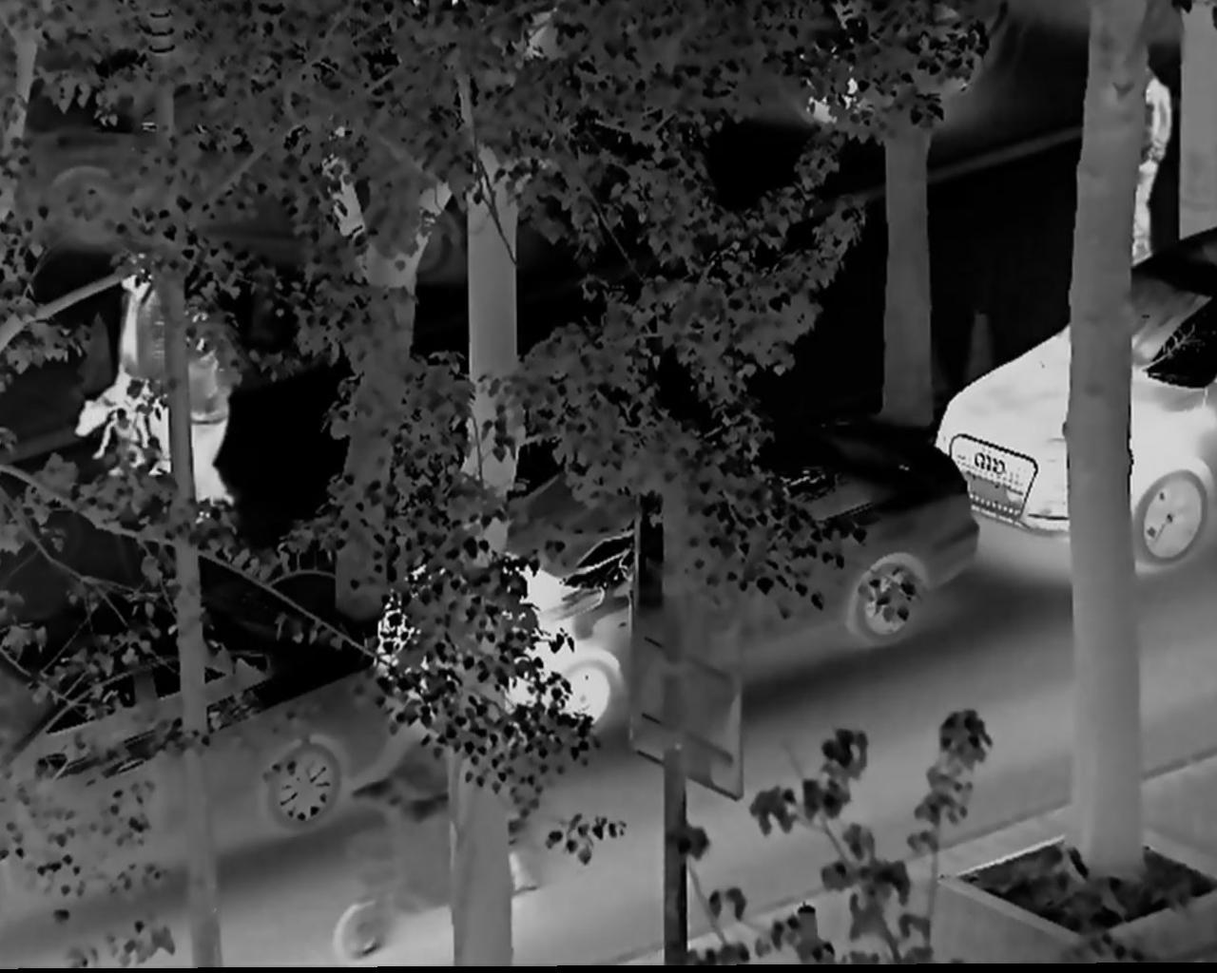person: (181, 316, 248, 536), (109, 265, 175, 466), (1127, 55, 1171, 271)
